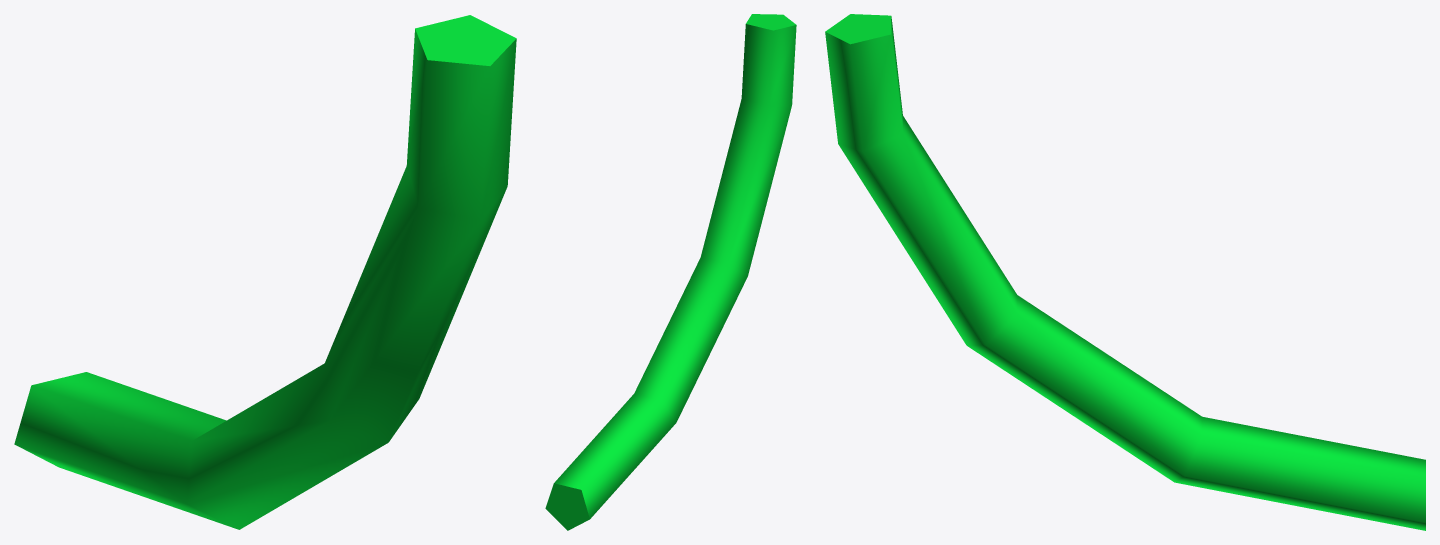
The model's file is Pipe_Ring_90.fbx.
3 views of the same model, side by side, from view 1: azimuth 30°, elevation 25°; view 2: azimuth 150°, elevation 25°; view 3: azimuth 270°, elevation 25° (orthographic). The views are drawn at different scales.
Visible parts, largest first — view 1: Pipe_Ring_90; view 2: Pipe_Ring_90; view 3: Pipe_Ring_90.
Part boxes in pixels (<box>): Pipe_Ring_90: <box>14,15,516,529</box>; Pipe_Ring_90: <box>545,14,796,530</box>; Pipe_Ring_90: <box>825,14,1425,530</box>.
Size of the model in its own units: 0.2254 by 1.75 by 1.89.
